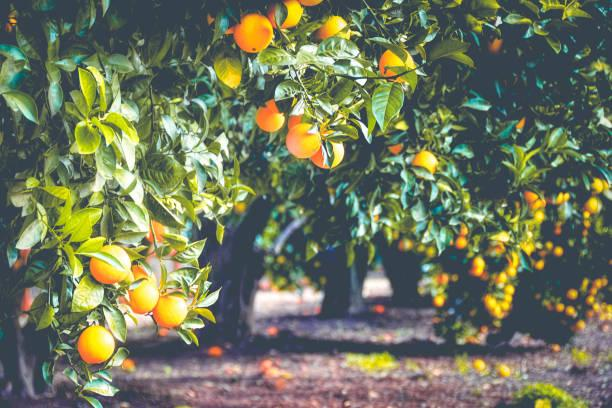orange: (294, 107, 361, 164), (367, 37, 422, 87), (119, 273, 169, 320), (226, 16, 282, 54), (72, 318, 121, 360), (156, 287, 201, 330), (83, 247, 135, 283), (322, 10, 374, 45), (254, 96, 289, 143)
